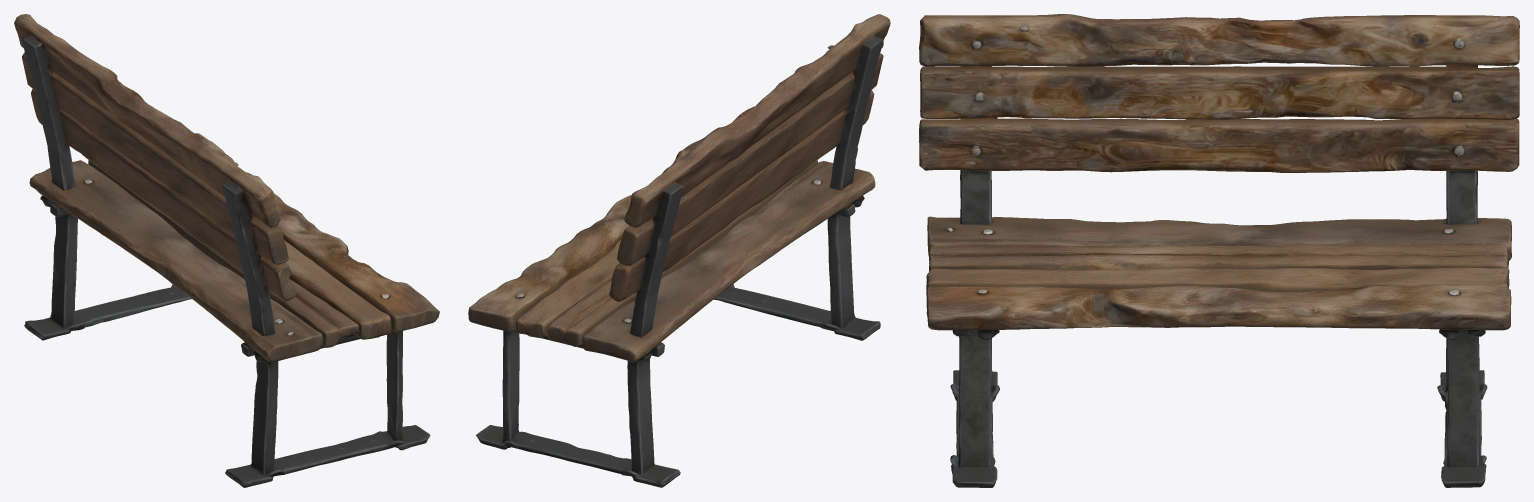
File: bench-outdoor.glb
3 renders of one model, left to right at view 1: azimuth 30°, elevation 25°; view 2: azimuth 150°, elevation 25°; view 3: azimuth 270°, elevation 25°, orthographic. The views are drawn at different scales.
Parts seen in each view (by area): view 1: tripo_node_5a9de1a6-0f7c-4dd3-89a3-f892e890693a; view 2: tripo_node_5a9de1a6-0f7c-4dd3-89a3-f892e890693a; view 3: tripo_node_5a9de1a6-0f7c-4dd3-89a3-f892e890693a.
Part boxes in pixels (x1=…): tripo_node_5a9de1a6-0f7c-4dd3-89a3-f892e890693a: x1=14, y1=14, x2=439, y2=487; tripo_node_5a9de1a6-0f7c-4dd3-89a3-f892e890693a: x1=468, y1=14, x2=890, y2=487; tripo_node_5a9de1a6-0f7c-4dd3-89a3-f892e890693a: x1=919, y1=14, x2=1519, y2=487.
Size of the model in its own units: 0.6033 by 0.9 by 1.32.
Materials: 1 (1 with a texture image).
